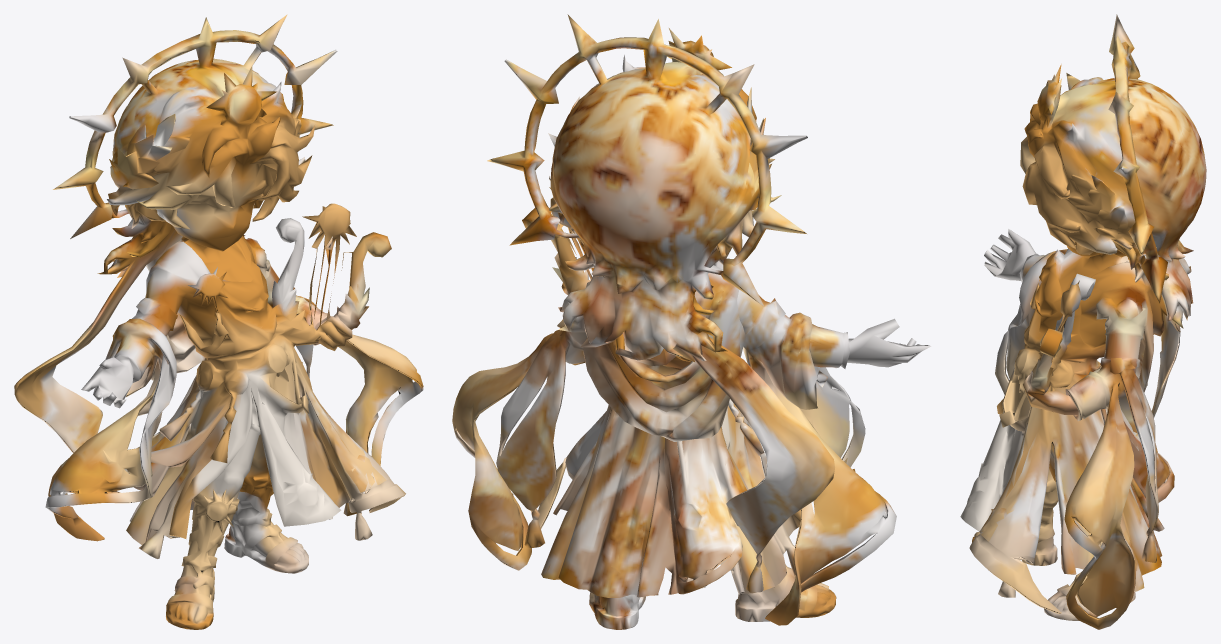
File: apollo_painted.glb
3 views of the same model, side by side, from view 1: azimuth 30°, elevation 25°; view 2: azimuth 150°, elevation 25°; view 3: azimuth 270°, elevation 25° (orthographic). The views are drawn at different scales.
Visible parts, largest first — view 1: Body; view 2: Body; view 3: Body.
Part boxes in pixels (x1,y1,x2,y2): Body: [14, 14, 423, 629]; Body: [452, 14, 931, 629]; Body: [960, 14, 1206, 629].
Bounding box in the file's own units: 0.73 × 0.9996 × 0.4071.
1 material, 1 textured.
